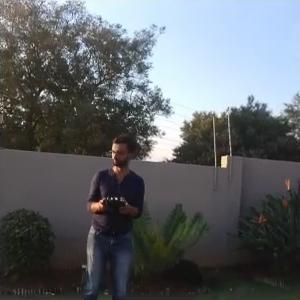follow: (78, 127, 145, 298)
